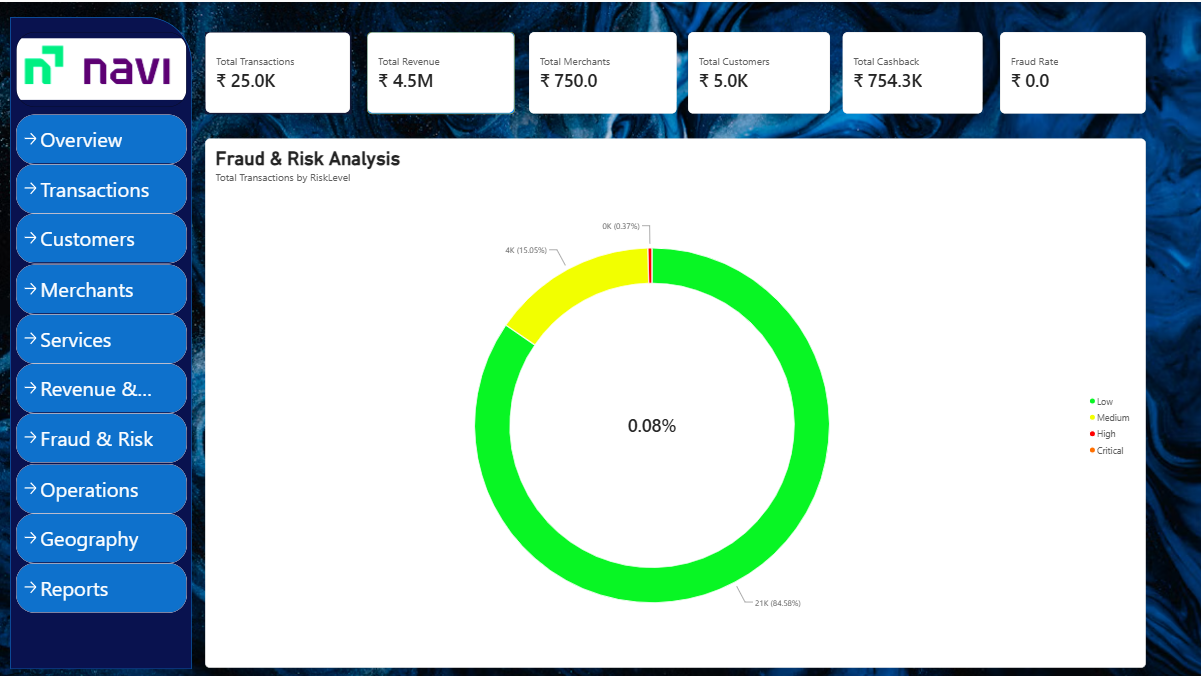

Layout of this report page (visuals, bound fields, positions):
{"tool":"powerbi","page":{"name":"Fraud & Risk   ","canvas":[1920,1080],"ordinal":7},"visuals":[{"type":"cardVisual","fields":{"Data":["_Measures.Total Transactions"]},"box":[328.8,48.2,232.4,130.4],"z":0},{"type":"cardVisual","fields":{"Data":["_Measures.Total Revenue"]},"box":[586.8,48.2,235.3,130.4],"z":1000},{"type":"cardVisual","fields":{"Data":["_Measures.Total Merchants"]},"box":[844.7,48.2,235.3,130.4],"z":2000},{"type":"cardVisual","fields":{"Data":["_Measures.Total Customers"]},"box":[1097,48.2,226.8,130.4],"z":3000},{"type":"cardVisual","fields":{"Data":["_Measures.Total Cashback"]},"box":[1343.6,48.2,223.9,130.4],"z":4000},{"type":"cardVisual","fields":{"Data":["_Measures.Fraud Rate"]},"box":[1593.1,48.2,232.4,130.4],"z":5000},{"type":"donutChart","title":"Fraud & Risk Analysis","fields":{"Category":["FactTransactions.RiskLevel"],"Y":["_Measures.Total Transactions"]},"box":[328.8,218.3,1496.7,841.9],"z":14000},{"type":"shape","box":[19.8,22.7,289.1,1037.5],"z":16000},{"type":"image","box":[28.3,48.2,272.1,119.1],"z":17000},{"type":"actionButton","box":[28.3,178.6,272.1,79.4],"z":18000},{"type":"actionButton","box":[28.3,258,272.1,79.4],"z":19000},{"type":"actionButton","box":[28.3,734.2,272.1,79.4],"z":20000},{"type":"actionButton","box":[28.3,654.8,272.1,79.4],"z":21000},{"type":"actionButton","box":[28.3,575.4,272.1,79.4],"z":22000},{"type":"actionButton","box":[28.3,337.3,272.1,79.4],"z":23000},{"type":"actionButton","box":[28.3,416.7,272.1,79.4],"z":24000},{"type":"actionButton","box":[28.3,496.1,272.1,79.4],"z":25000},{"type":"actionButton","box":[28.3,813.5,272.1,79.4],"z":26000},{"type":"actionButton","box":[28.3,892.9,272.1,79.4],"z":27000}]}

Visuals, with their boxes on the page's 1920x1080 design canvas (x1, y1, x2, y2). These are canvas units, not pixel positions in the 1201x676 screenshot, which may show the page scaled, cropped or inside an application window:
cardVisual - _Measures.Total Transactions: bbox(329, 48, 561, 179)
cardVisual - _Measures.Total Revenue: bbox(587, 48, 822, 179)
cardVisual - _Measures.Total Merchants: bbox(845, 48, 1080, 179)
cardVisual - _Measures.Total Customers: bbox(1097, 48, 1324, 179)
cardVisual - _Measures.Total Cashback: bbox(1344, 48, 1568, 179)
cardVisual - _Measures.Fraud Rate: bbox(1593, 48, 1826, 179)
"Fraud & Risk Analysis" donutChart: bbox(329, 218, 1826, 1060)
shape: bbox(20, 23, 309, 1060)
image: bbox(28, 48, 300, 167)
actionButton: bbox(28, 179, 300, 258)
actionButton: bbox(28, 258, 300, 337)
actionButton: bbox(28, 734, 300, 814)
actionButton: bbox(28, 655, 300, 734)
actionButton: bbox(28, 575, 300, 655)
actionButton: bbox(28, 337, 300, 417)
actionButton: bbox(28, 417, 300, 496)
actionButton: bbox(28, 496, 300, 576)
actionButton: bbox(28, 814, 300, 893)
actionButton: bbox(28, 893, 300, 972)
